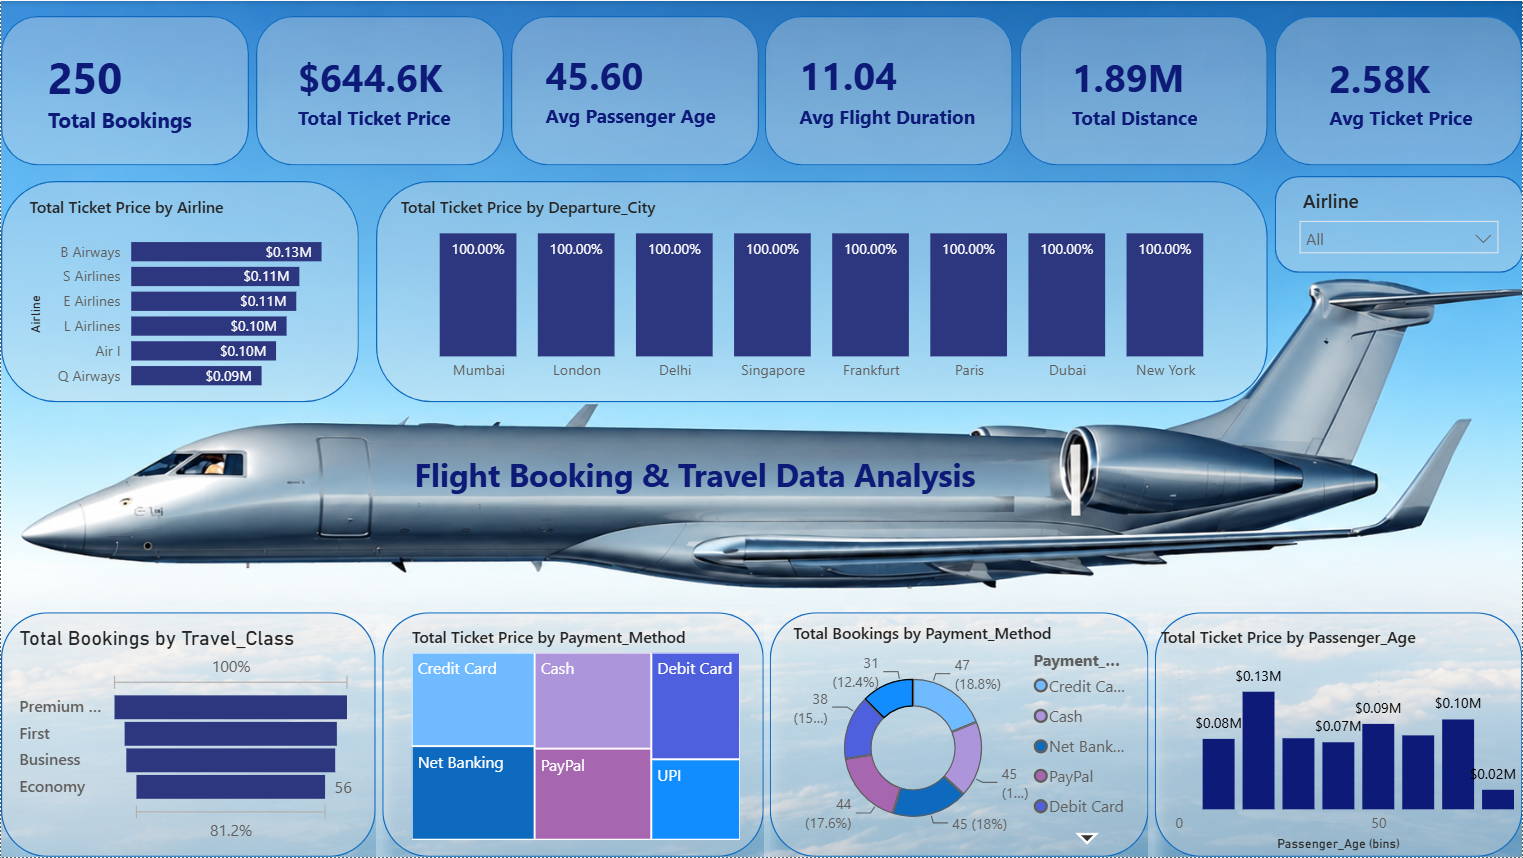

What the dashboard file says about the page in this screenshot:
{"tool":"powerbi","page":{"name":"Dashboard","canvas":[1280,720],"ordinal":0},"visuals":[{"type":"image","box":[0,0,1280,720],"z":0},{"type":"shape","box":[1070.9,147.7,209.3,81.4],"z":1000},{"type":"shape","box":[0,514,315.1,205.8],"z":2000},{"type":"shape","box":[320.5,514,320.9,205.8],"z":3000},{"type":"shape","box":[646.9,514,318.6,205.8],"z":4000},{"type":"shape","box":[970.7,514,309.3,205.8],"z":5000},{"type":"shape","box":[0,151.2,301.2,186],"z":6000},{"type":"shape","box":[315.1,151.2,750,186],"z":7000},{"type":"shape","box":[0,12.9,208.6,125.7],"z":8000},{"type":"shape","box":[214.3,12.9,208.6,125.7],"z":9000},{"type":"shape","box":[428.6,12.9,208.6,125.7],"z":10000},{"type":"shape","box":[642.9,12.9,208.6,125.7],"z":11000},{"type":"shape","box":[857.1,12.9,208.6,125.7],"z":12000},{"type":"shape","box":[1071.4,12.9,208.6,125.7],"z":13000},{"type":"cardVisual","fields":{"Data":["flight_bookings_sample.count_of_booking_id"]},"box":[10,20,187.1,110],"z":14000},{"type":"cardVisual","fields":{"Data":["flight_bookings_sample.Avg Ticket Price"]},"box":[1088.6,24.3,191.4,102.9],"z":15000},{"type":"cardVisual","fields":{"Data":["flight_bookings_sample.Avg Passenger Age"]},"box":[428.6,20,208.6,107.1],"z":16000},{"type":"cardVisual","fields":{"Data":["flight_bookings_sample.Avg Flight Duration"]},"box":[642.9,20,208.6,108.6],"z":17000},{"type":"cardVisual","fields":{"Data":["flight_bookings_sample.Total Distance"]},"box":[871.4,25.7,180,100],"z":18000},{"type":"cardVisual","fields":{"Data":["flight_bookings_sample.Total Ticket Price"]},"box":[220.9,16.3,187.2,119.8],"z":19000},{"type":"clusteredBarChart","fields":{"Y":["flight_bookings_sample.Total Ticket Price"],"Category":["flight_bookings_sample.Airline"]},"box":[18.6,164,282.6,173.3],"z":20000},{"type":"hundredPercentStackedColumnChart","fields":{"Y":["flight_bookings_sample.Total Ticket Price"],"Category":["flight_bookings_sample.Departure_City"]},"box":[331.4,164,719.8,165.1],"z":21000},{"type":"funnel","fields":{"Y":["flight_bookings_sample.Total Bookings"],"Category":["flight_bookings_sample.Travel_Class"]},"box":[10.5,525.6,290.7,184.9],"z":22000},{"type":"treemap","fields":{"Values":["flight_bookings_sample.Total Ticket Price"],"Group":["flight_bookings_sample.Payment_Method"]},"box":[340.7,525.6,286,184.9],"z":23000},{"type":"donutChart","fields":{"Y":["flight_bookings_sample.Total Bookings"],"Category":["flight_bookings_sample.Payment_Method"]},"box":[661.6,522.1,300,194.2],"z":24000},{"type":"clusteredColumnChart","title":"Total Ticket Price by Passenger_Age ","fields":{"Y":["flight_bookings_sample.Total Ticket Price"],"Category":["flight_bookings_sample.Passenger_Age (bins)"]},"box":[970.9,525.6,309.3,194.2],"z":25000},{"type":"textbox","box":[343,375.6,591.9,51.2],"z":26000},{"type":"slicer","fields":{"Values":["flight_bookings_sample.Airline"]},"box":[1081.4,151.2,187.2,72.1],"z":27000}]}

Visuals, with their boxes in screenshot pixels (x1, y1, x2, y2), scaled from the page's 1280x720 canvas onto the 1523x858 screenshot:
image: select_region(0, 0, 1522, 857)
shape: select_region(1274, 176, 1522, 273)
shape: select_region(0, 613, 375, 857)
shape: select_region(381, 613, 763, 857)
shape: select_region(770, 613, 1149, 857)
shape: select_region(1155, 613, 1522, 857)
shape: select_region(0, 180, 358, 402)
shape: select_region(375, 180, 1267, 402)
shape: select_region(0, 15, 248, 165)
shape: select_region(255, 15, 503, 165)
shape: select_region(510, 15, 758, 165)
shape: select_region(765, 15, 1013, 165)
shape: select_region(1020, 15, 1268, 165)
shape: select_region(1275, 15, 1522, 165)
cardVisual - flight_bookings_sample.count_of_booking_id: select_region(12, 24, 235, 155)
cardVisual - flight_bookings_sample.Avg Ticket Price: select_region(1295, 29, 1522, 152)
cardVisual - flight_bookings_sample.Avg Passenger Age: select_region(510, 24, 758, 151)
cardVisual - flight_bookings_sample.Avg Flight Duration: select_region(765, 24, 1013, 153)
cardVisual - flight_bookings_sample.Total Distance: select_region(1037, 31, 1251, 150)
cardVisual - flight_bookings_sample.Total Ticket Price: select_region(263, 19, 486, 162)
clusteredBarChart - flight_bookings_sample.Total Ticket Price x flight_bookings_sample.Airline: select_region(22, 195, 358, 402)
hundredPercentStackedColumnChart - flight_bookings_sample.Total Ticket Price x flight_bookings_sample.Departure_City: select_region(394, 195, 1251, 392)
funnel - flight_bookings_sample.Total Bookings x flight_bookings_sample.Travel_Class: select_region(12, 626, 358, 847)
treemap - flight_bookings_sample.Total Ticket Price x flight_bookings_sample.Payment_Method: select_region(405, 626, 746, 847)
donutChart - flight_bookings_sample.Total Bookings x flight_bookings_sample.Payment_Method: select_region(787, 622, 1144, 854)
"Total Ticket Price by Passenger_Age " clusteredColumnChart: select_region(1155, 626, 1522, 857)
textbox: select_region(408, 448, 1112, 509)
slicer - flight_bookings_sample.Airline: select_region(1287, 180, 1509, 266)
